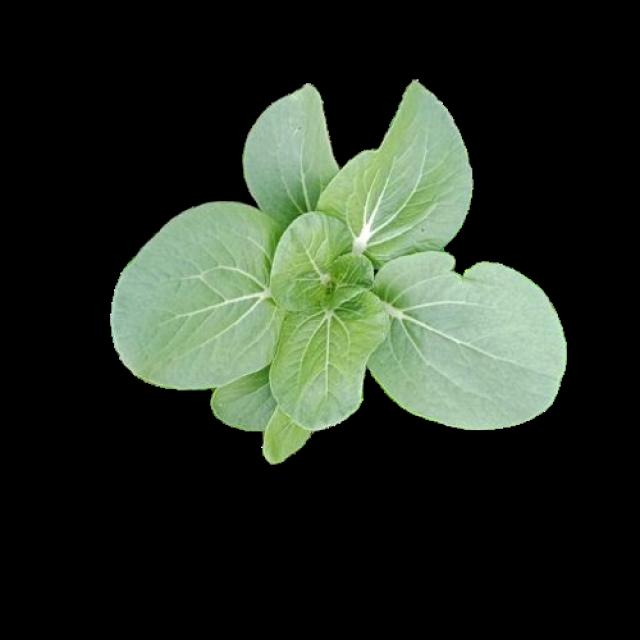not-mature: (111, 80, 561, 460)
unhealthy: (362, 250, 558, 428)
